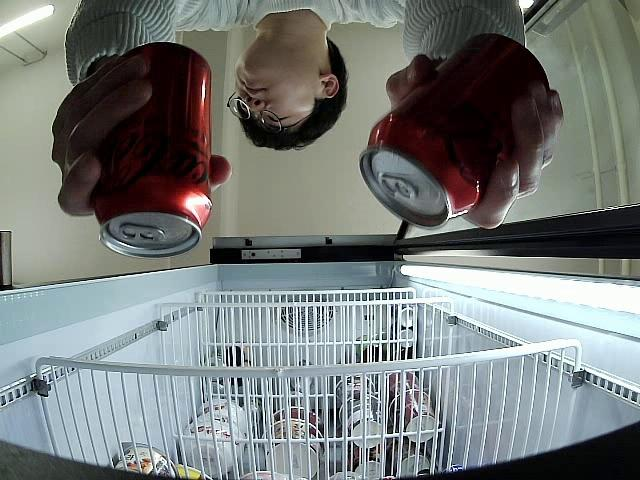00_hand: (387, 54, 564, 229), (51, 50, 231, 217)
11_cocaColaZero: (358, 32, 553, 230), (93, 42, 212, 257)
